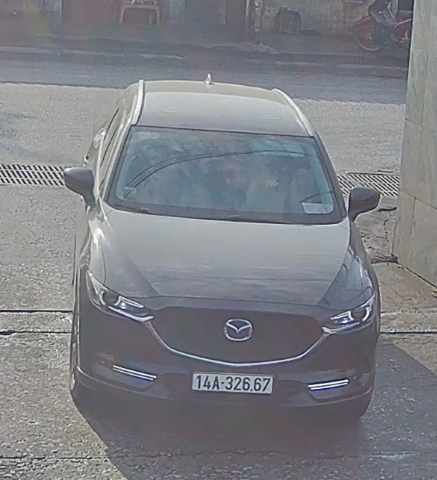vehicle plate: (189, 367, 283, 398)
